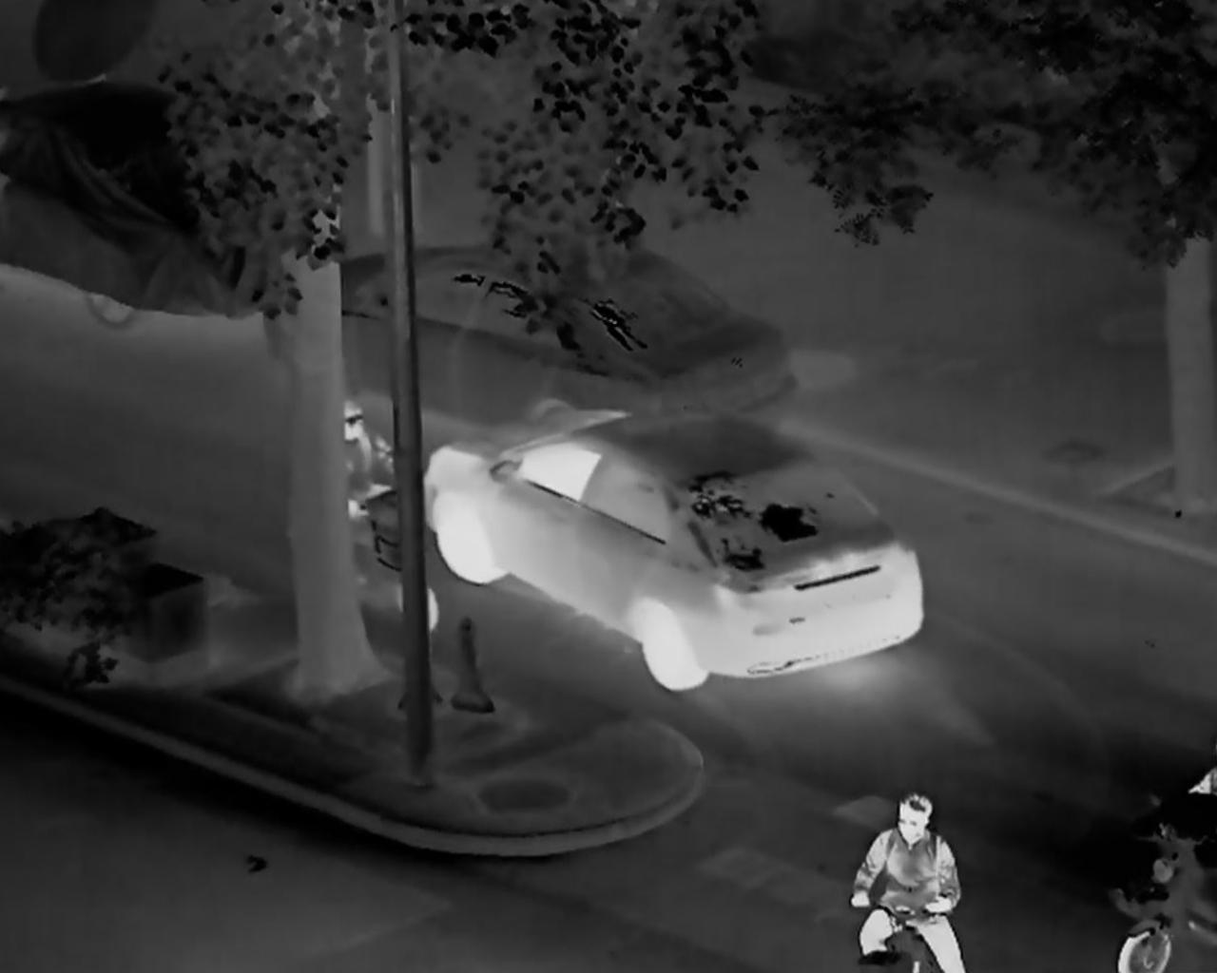person: (853, 792, 965, 973), (322, 399, 405, 564)
